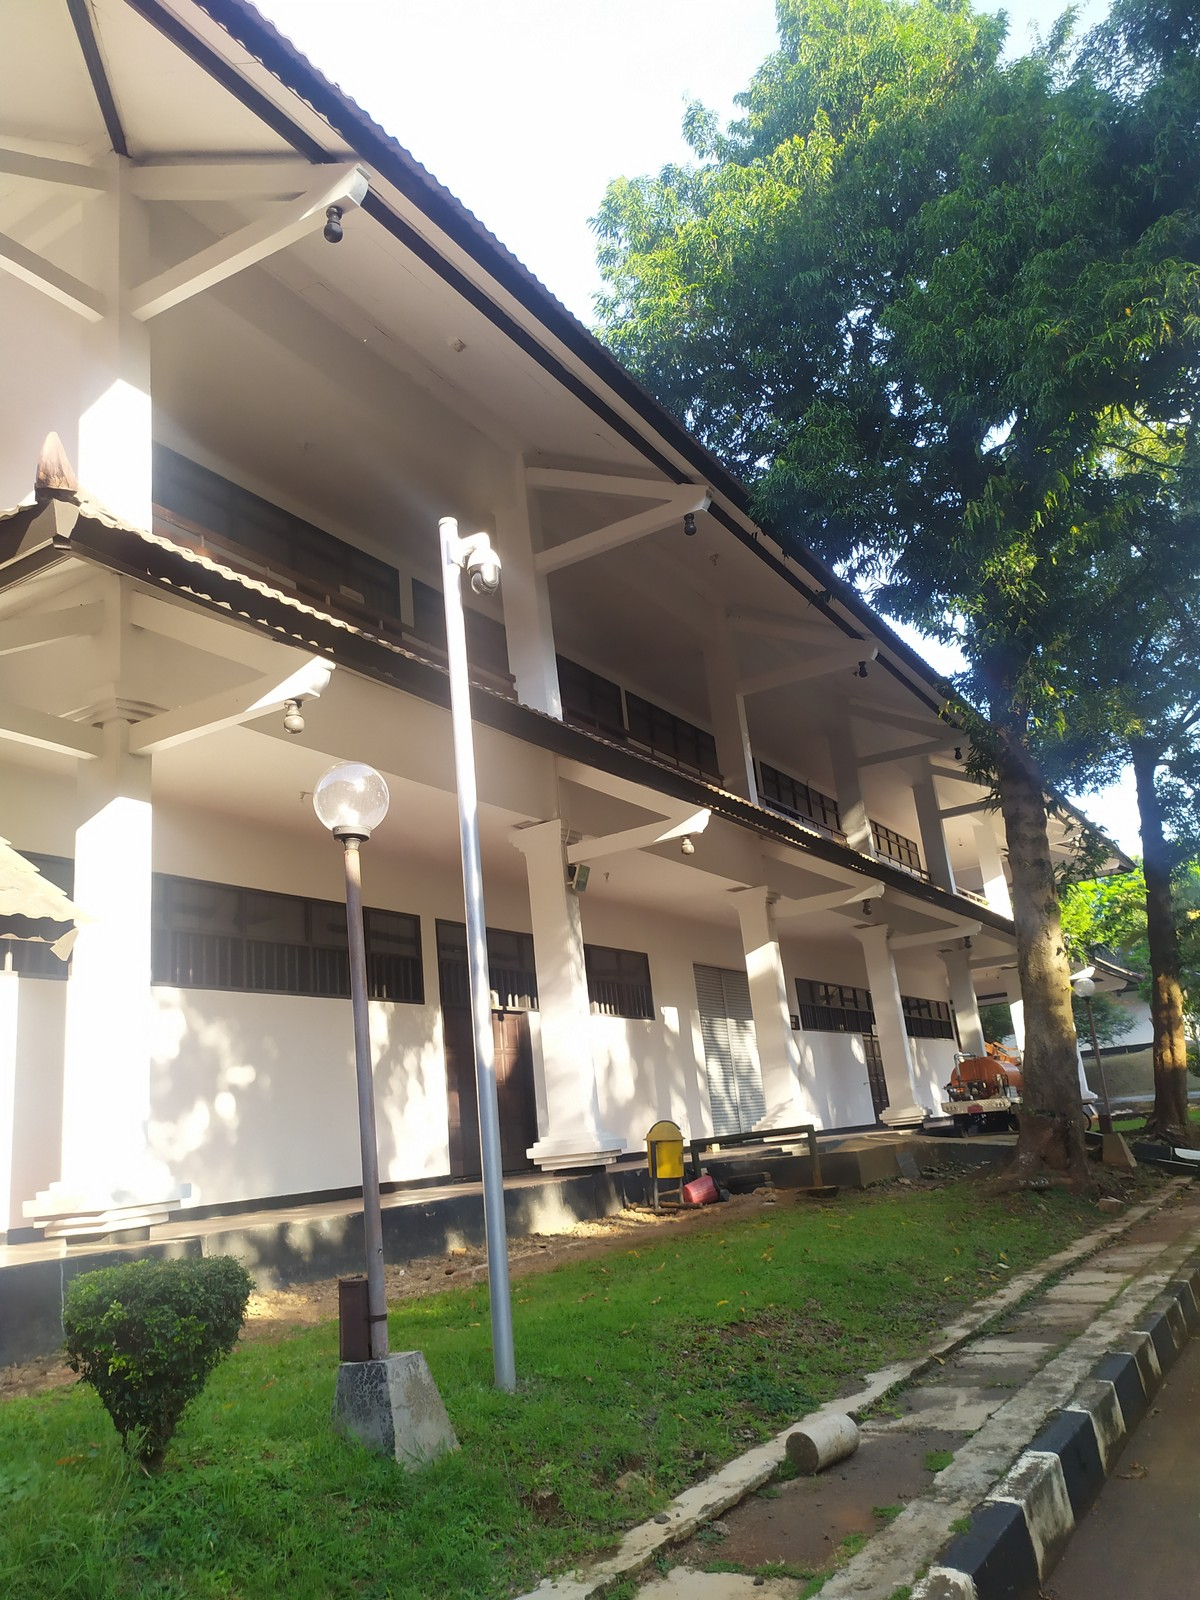concrete column: (49, 729, 166, 1175), (72, 181, 165, 527), (523, 831, 611, 1141), (487, 454, 568, 713), (737, 891, 808, 1123), (853, 922, 925, 1120), (703, 614, 766, 796)
